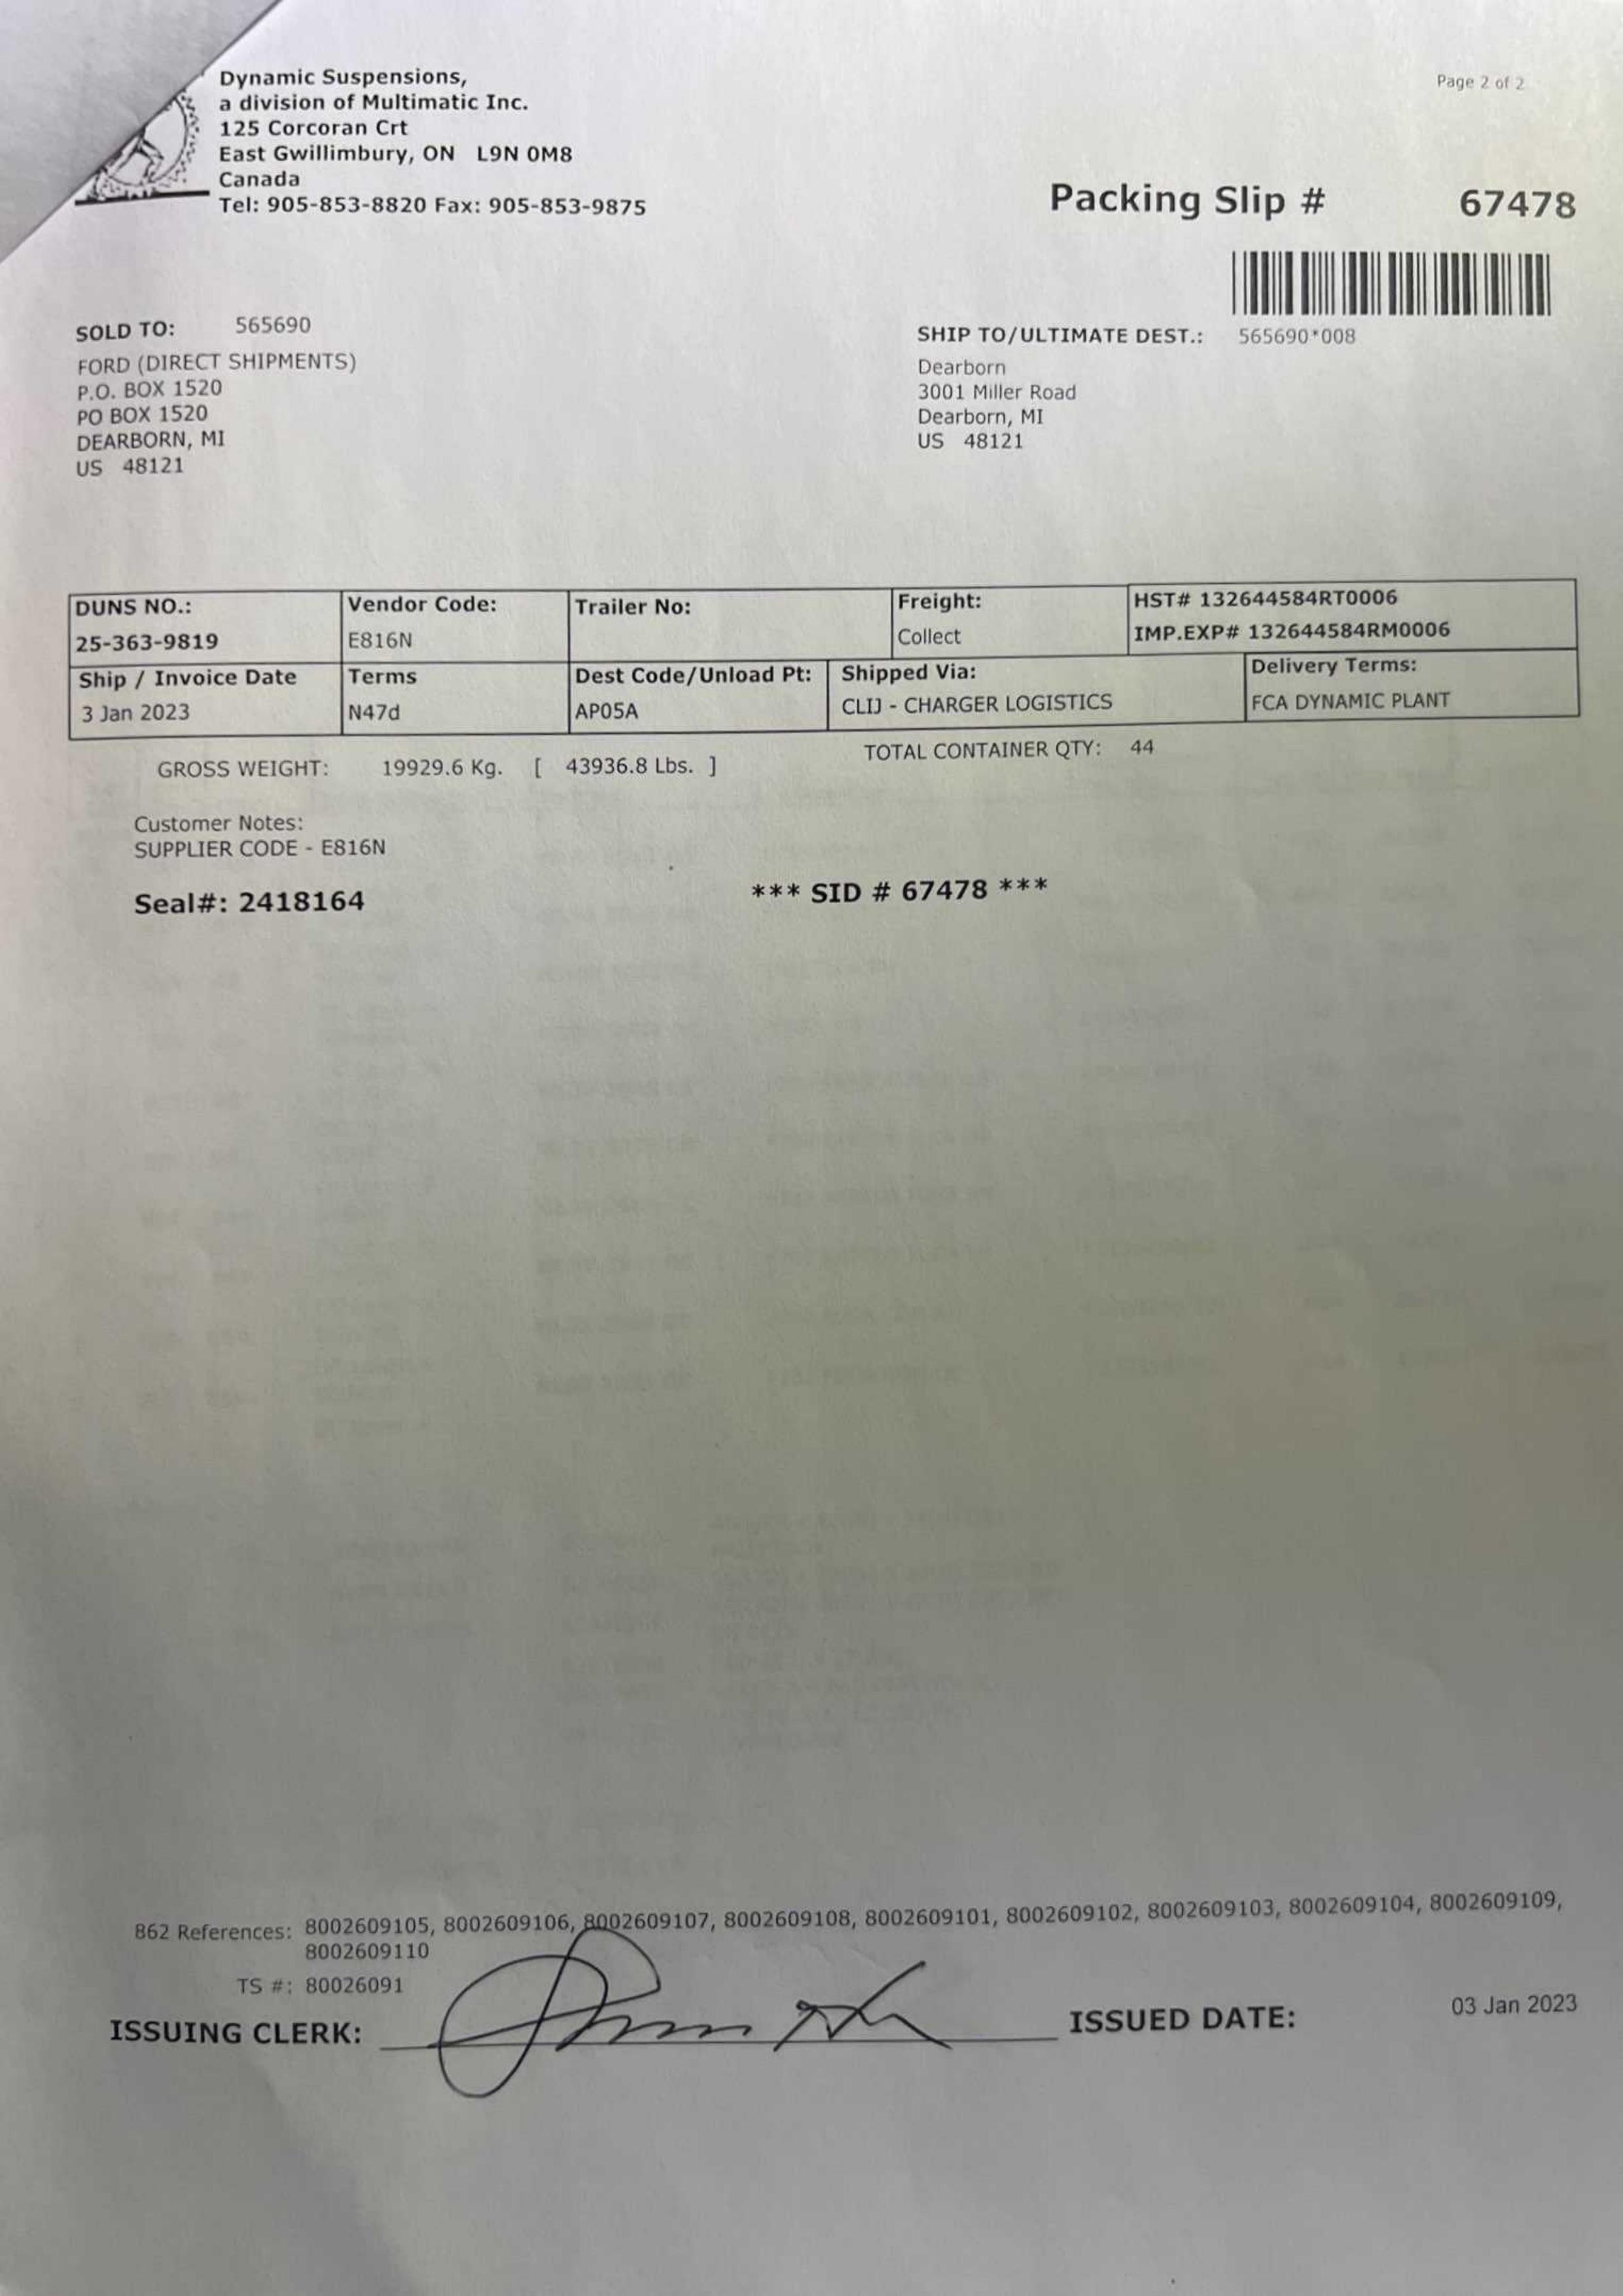B_Paragraph: (132, 1885, 1569, 1970), (214, 61, 655, 225), (77, 353, 364, 490), (141, 753, 729, 790), (748, 860, 1056, 925), (912, 353, 1089, 465), (126, 806, 397, 865), (861, 735, 1161, 772), (1453, 1975, 1600, 2038), (221, 1964, 416, 2005), (1446, 190, 1586, 244), (1419, 56, 1537, 107), (1233, 319, 1367, 355), (228, 305, 323, 337)
B_SubTitle: (107, 2005, 369, 2063), (1049, 179, 1331, 230), (130, 885, 378, 929), (912, 318, 1207, 353), (1068, 1999, 1307, 2040), (69, 314, 184, 348)
B_Table: (65, 576, 1579, 735)
